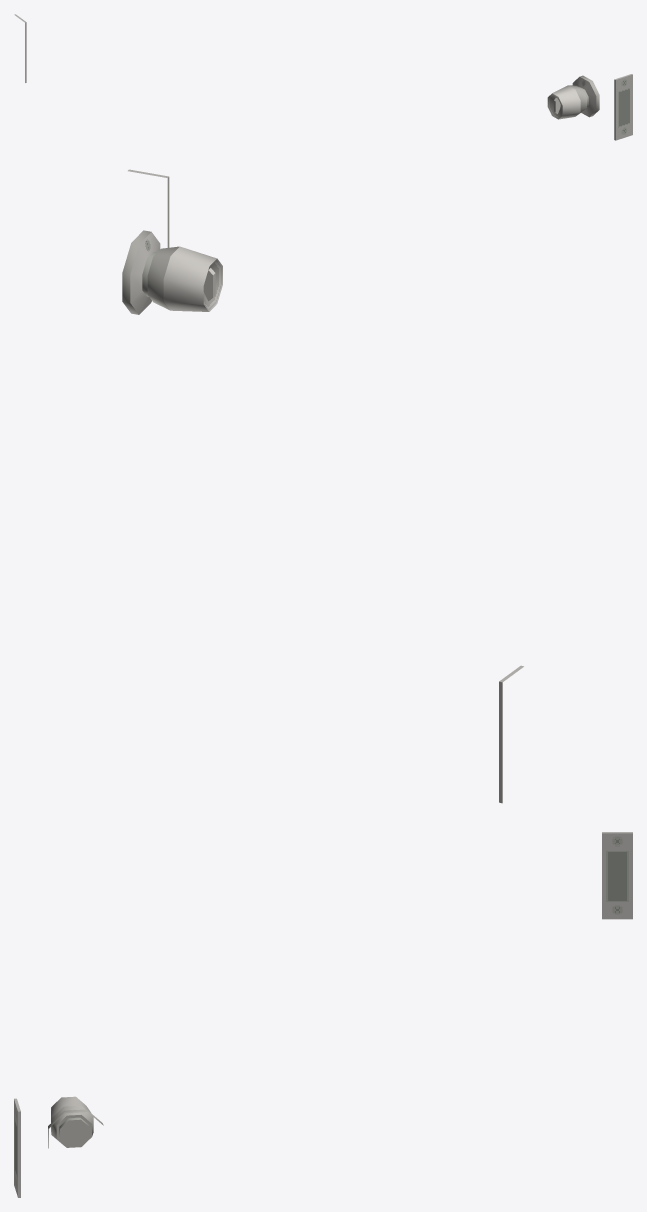
Rendered from kd_stage_135b75_4_89.glb.
The picture shows the model from 3 angles, top to bottom: view 1: azimuth 30°, elevation 25°; view 2: azimuth 150°, elevation 25°; view 3: azimuth 270°, elevation 25°; orthographic projection. The views are drawn at different scales.
Parts seen in each view (by area): view 1: kd_stage_135b75_4_89; view 2: kd_stage_135b75_4_89; view 3: kd_stage_135b75_4_89.
Boxes of the visible parts, x1,y1,x2,y2 form: kd_stage_135b75_4_89: (14, 14, 632, 140); kd_stage_135b75_4_89: (122, 169, 523, 803); kd_stage_135b75_4_89: (14, 832, 632, 1197).
Bounding box in the file's own units: 1.07 × 0.1539 × 1.
Materials: 1 (1 with a texture image).
